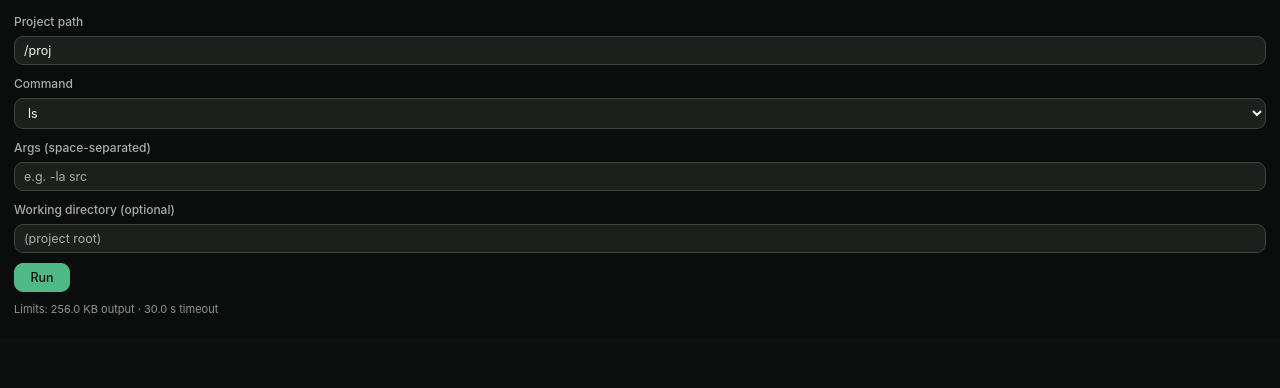
Test: TerminalWidget › surfaces a COMMAND_DENIED error with the code
Expected: the dropdown labelled "Command" is shown, x1=14 y1=98 x2=1266 y2=129
Click the button "Run" at (42, 278), box x1=14 y1=263 x2=70 y2=292
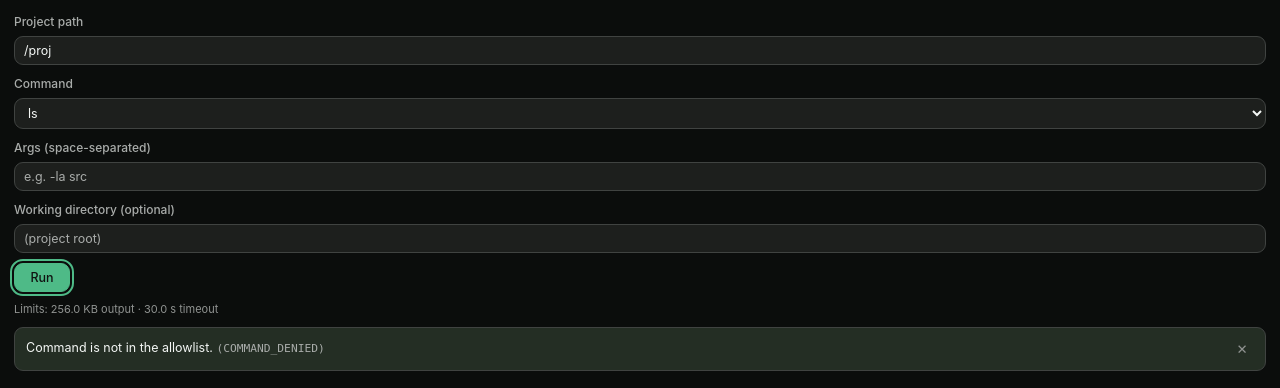
Result: the message shows "COMMAND_DENIED" at x1=223 y1=342 x2=318 y2=355
